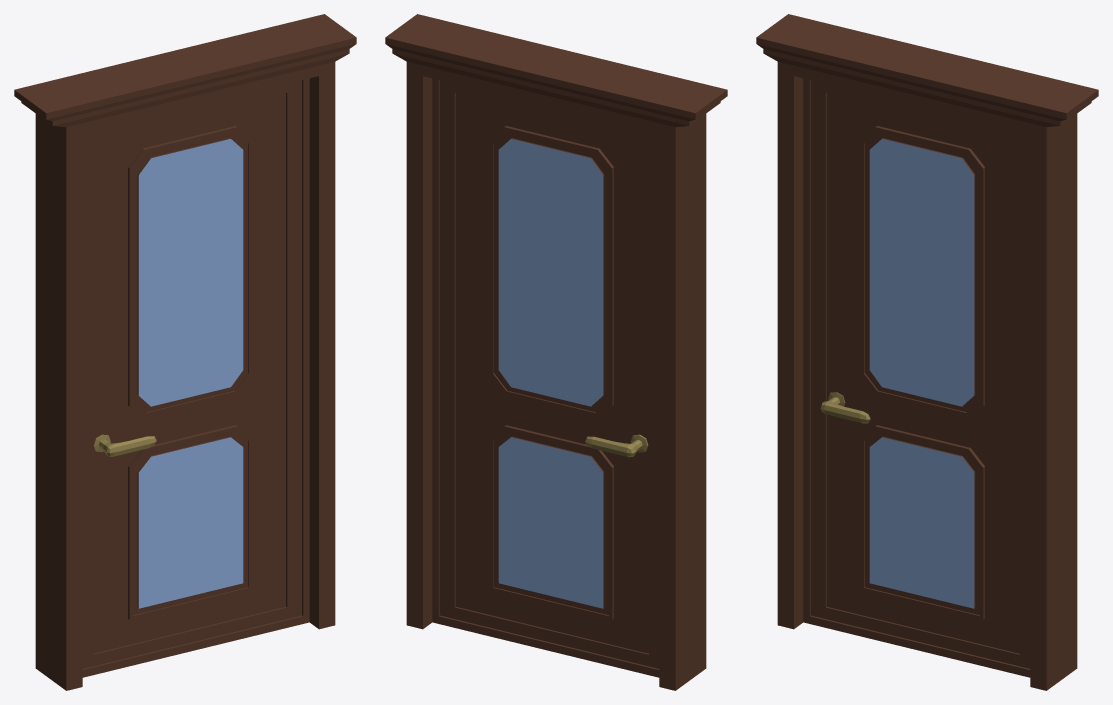
Rendered from Door2.glb.
The picture shows the model from 3 angles, left to right: view 1: azimuth 30°, elevation 25°; view 2: azimuth 150°, elevation 25°; view 3: azimuth 330°, elevation 25°; orthographic projection.
Parts seen in each view (by area): view 1: Door, DoorFrame, DoorHandle; view 2: Door, DoorFrame, DoorHandle; view 3: Door, DoorFrame, DoorHandle.
Boxes of the visible parts, x1,y1,x2,y2 form: Door: [82, 78, 309, 677]; DoorFrame: [14, 14, 356, 690]; DoorHandle: [93, 434, 156, 456]; Door: [432, 78, 659, 677]; DoorFrame: [385, 14, 727, 690]; DoorHandle: [585, 434, 648, 457]; Door: [803, 78, 1030, 677]; DoorFrame: [756, 14, 1098, 690]; DoorHandle: [820, 392, 870, 423].
Bounding box in the file's own units: 1.75 × 3.14 × 0.3199.
